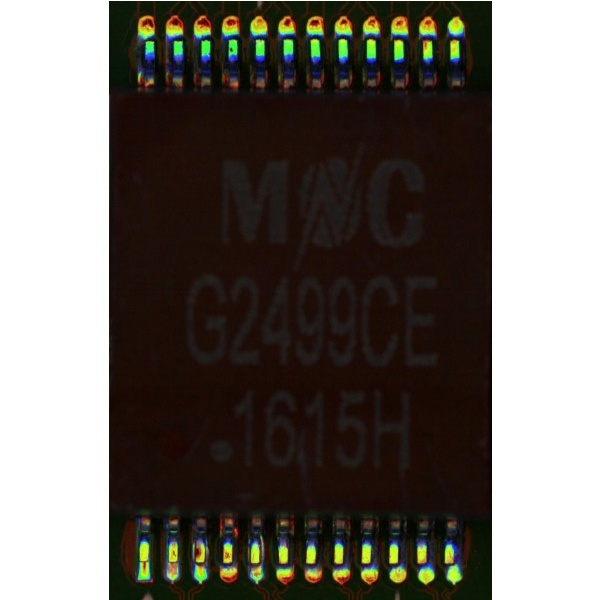Bad_podu: (197, 555, 205, 571), (141, 552, 148, 570), (170, 553, 177, 567)
Bad_qiaojiao: (260, 534, 265, 564)
